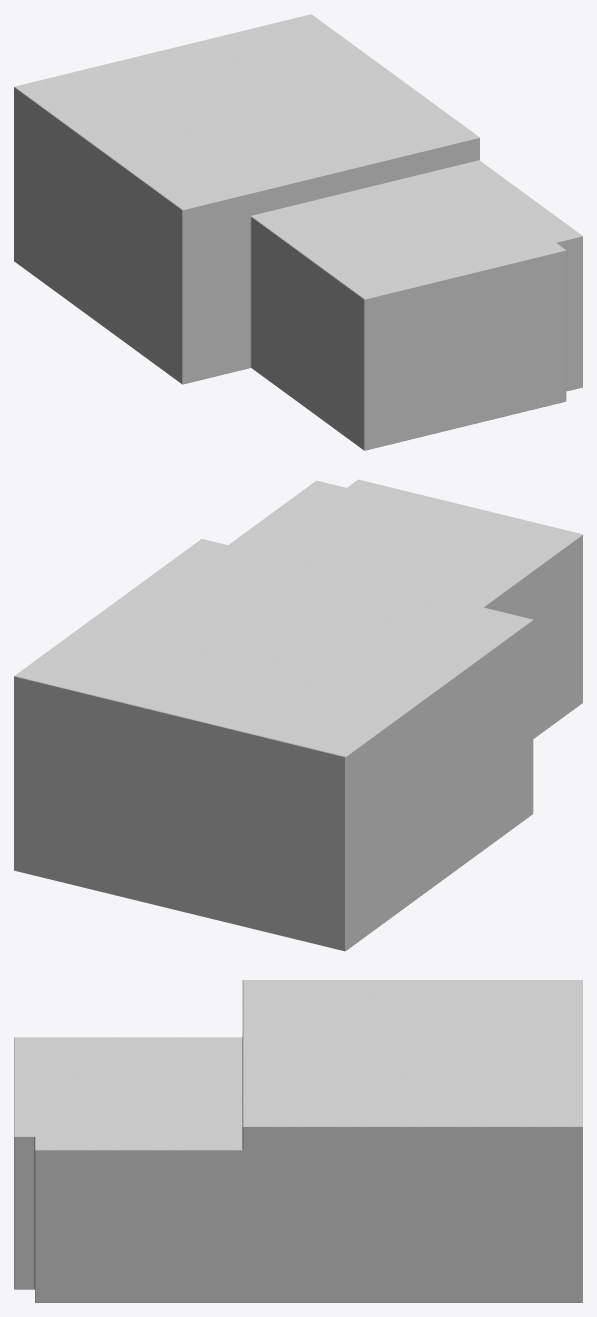
Rendered from env_zollShell01.FBX.
3 views of the same model, one above another, from view 1: azimuth 30°, elevation 25°; view 2: azimuth 150°, elevation 25°; view 3: azimuth 270°, elevation 25° (orthographic). The views are drawn at different scales.
Visible parts, largest first — view 1: zollShell; view 2: zollShell; view 3: zollShell.
Boxes of the visible parts, x1,y1,x2,y2 form: zollShell: (14, 14, 582, 450); zollShell: (14, 479, 582, 951); zollShell: (14, 980, 582, 1302).
Bounding box in the file's own units: 5.43 × 3.04 × 8.89.
